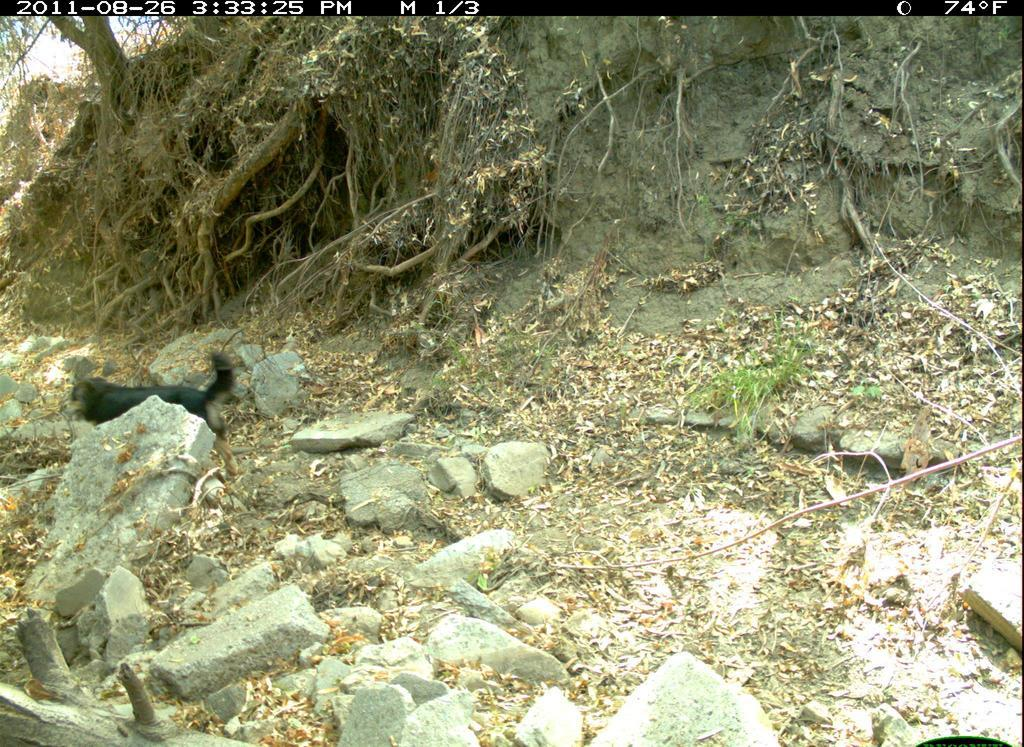dog: (63, 341, 249, 486)
